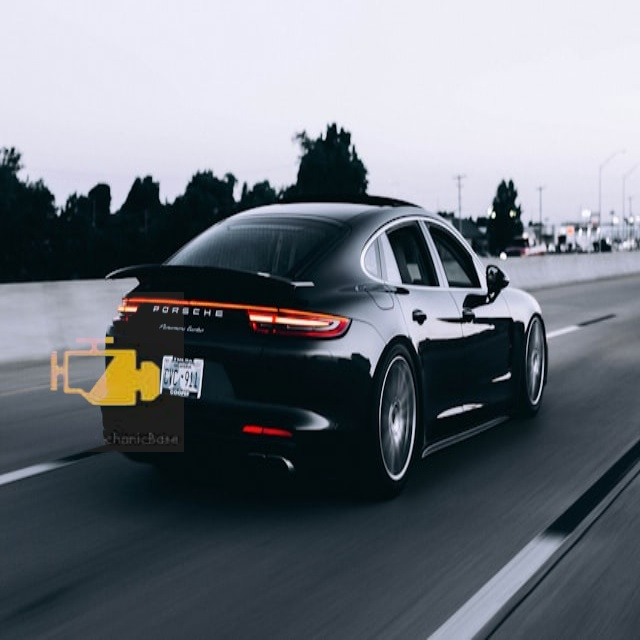symbol: (24, 292, 184, 452)
